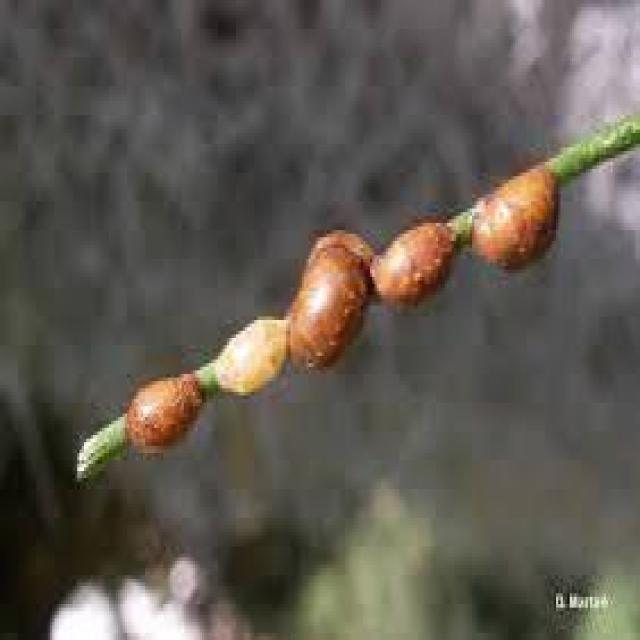BlackScale: (291, 216, 454, 366), (461, 158, 554, 277), (211, 313, 288, 398), (120, 382, 202, 454)
